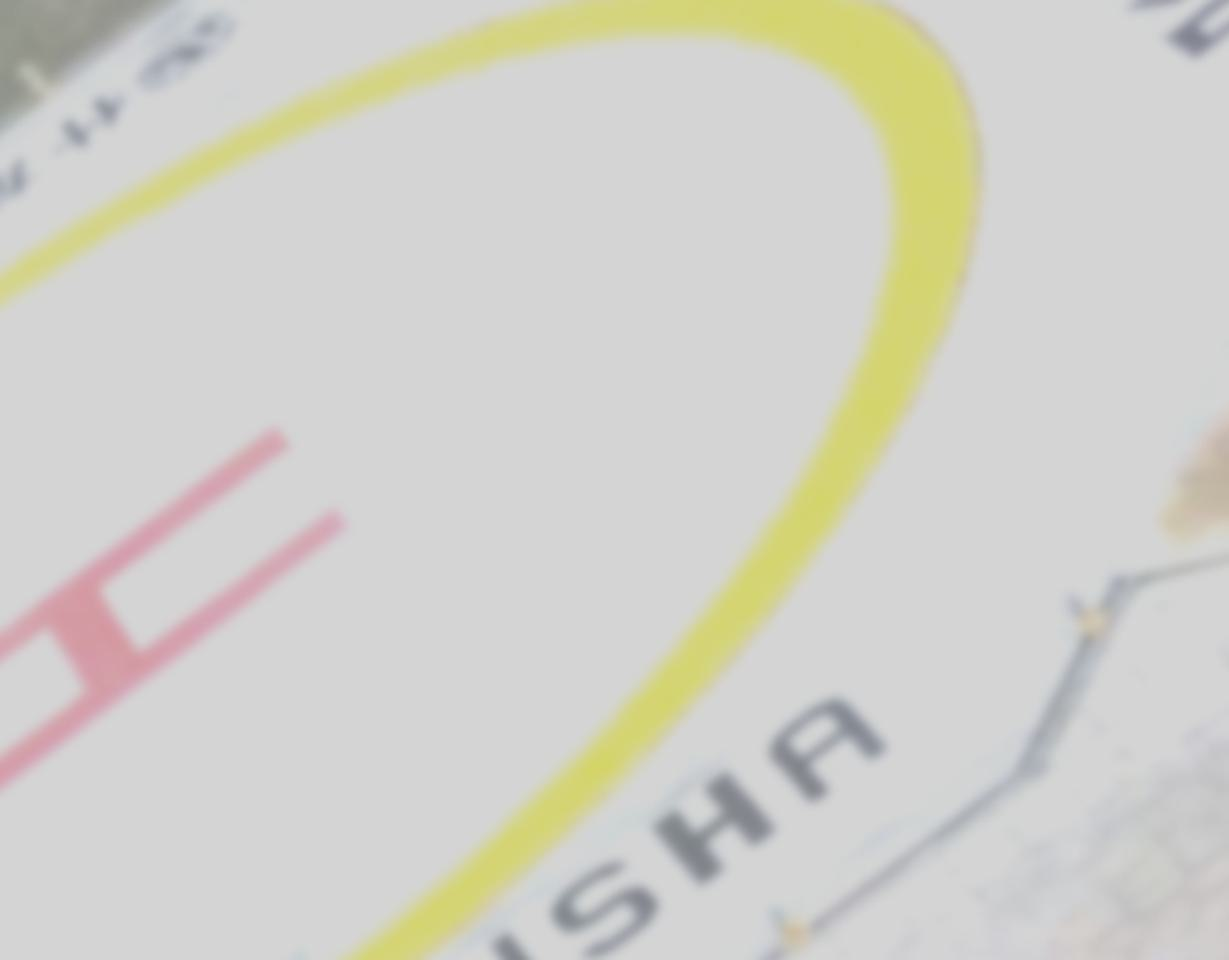Apron: (1, 2, 999, 955)
